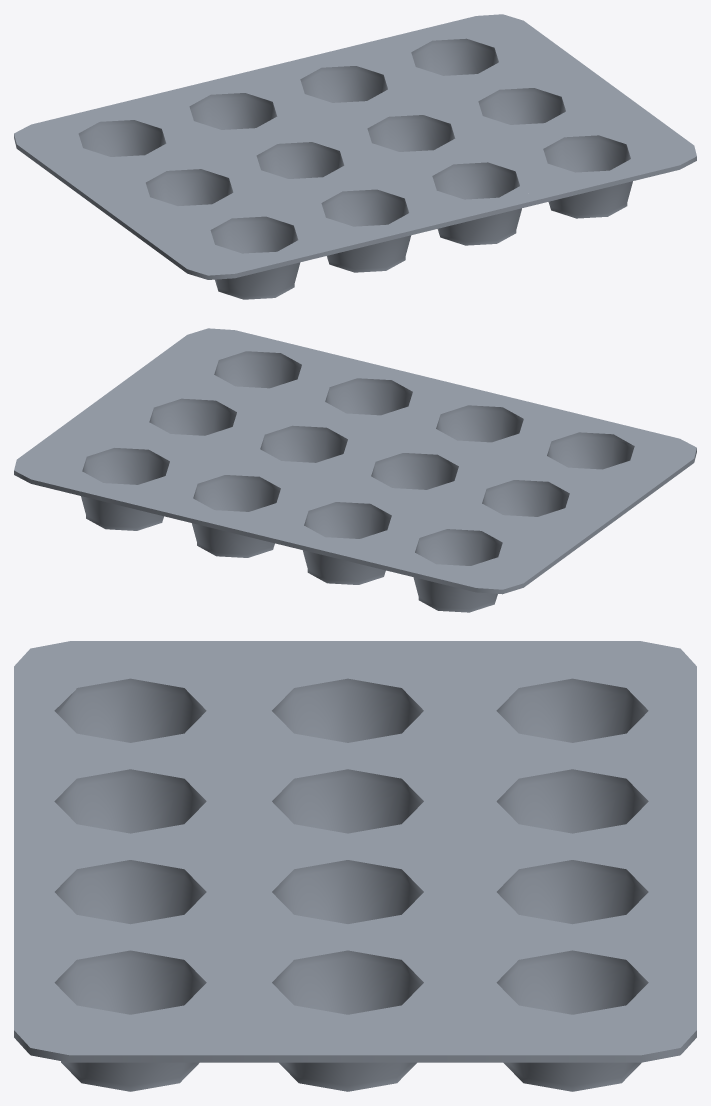
File: Muffin Tray.glb
The picture shows the model from 3 angles, top to bottom: view 1: azimuth 30°, elevation 25°; view 2: azimuth 150°, elevation 25°; view 3: azimuth 270°, elevation 25°; orthographic projection. The views are drawn at different scales.
Parts seen in each view (by area): view 1: muffin_tray_Cube.021; view 2: muffin_tray_Cube.021; view 3: muffin_tray_Cube.021.
Boxes of the visible parts, bbox=[...] form: muffin_tray_Cube.021: bbox=[14, 14, 696, 299]; muffin_tray_Cube.021: bbox=[14, 328, 696, 612]; muffin_tray_Cube.021: bbox=[14, 641, 696, 1091].
Bounding box in the file's own units: 9.06 × 0.8141 × 6.31.
Materials: 1 (1 with a texture image).
